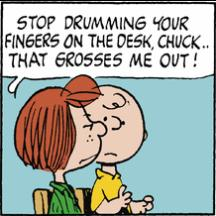charlie: (84, 83, 158, 214)
